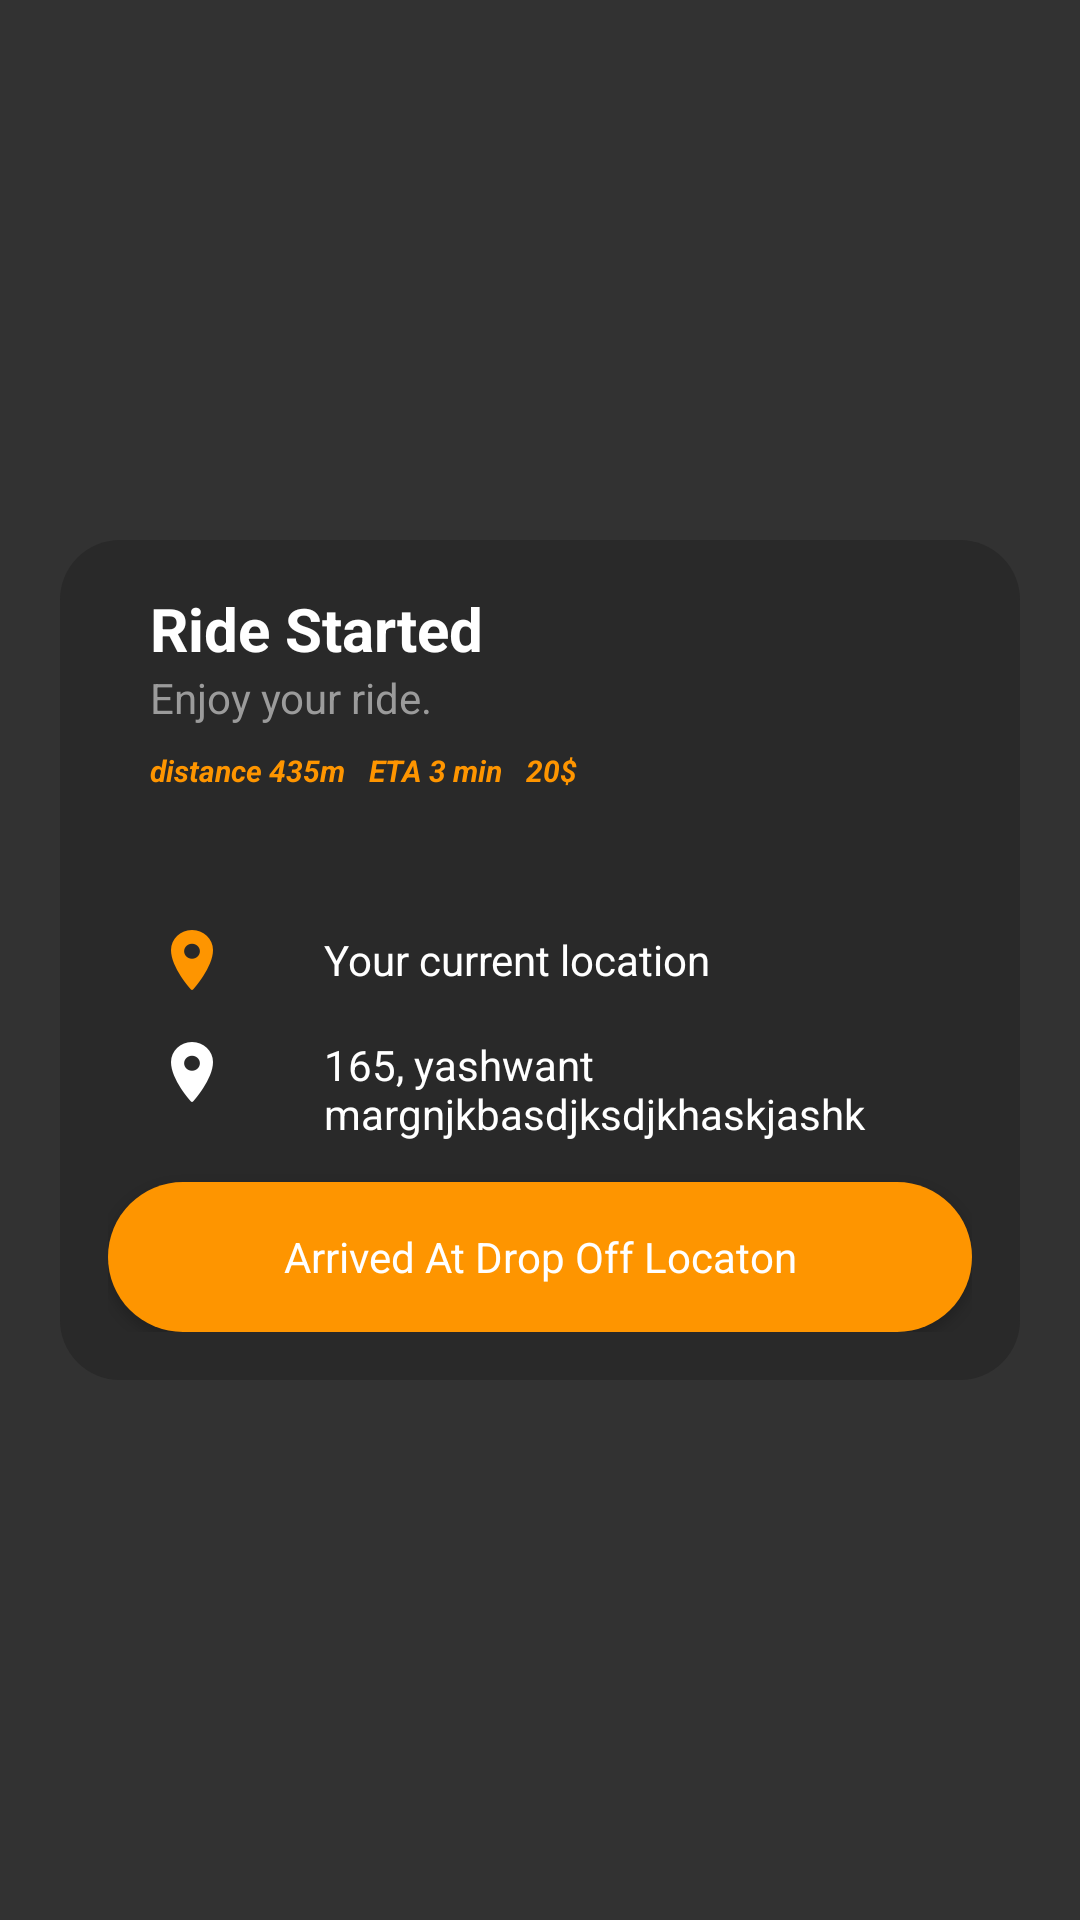

Screen size 1080×1920. Icon name, then its center in pixels as (x=x, y=y):
destination pin: (x=192, y=1072)
passenger pin: (x=192, y=960)
